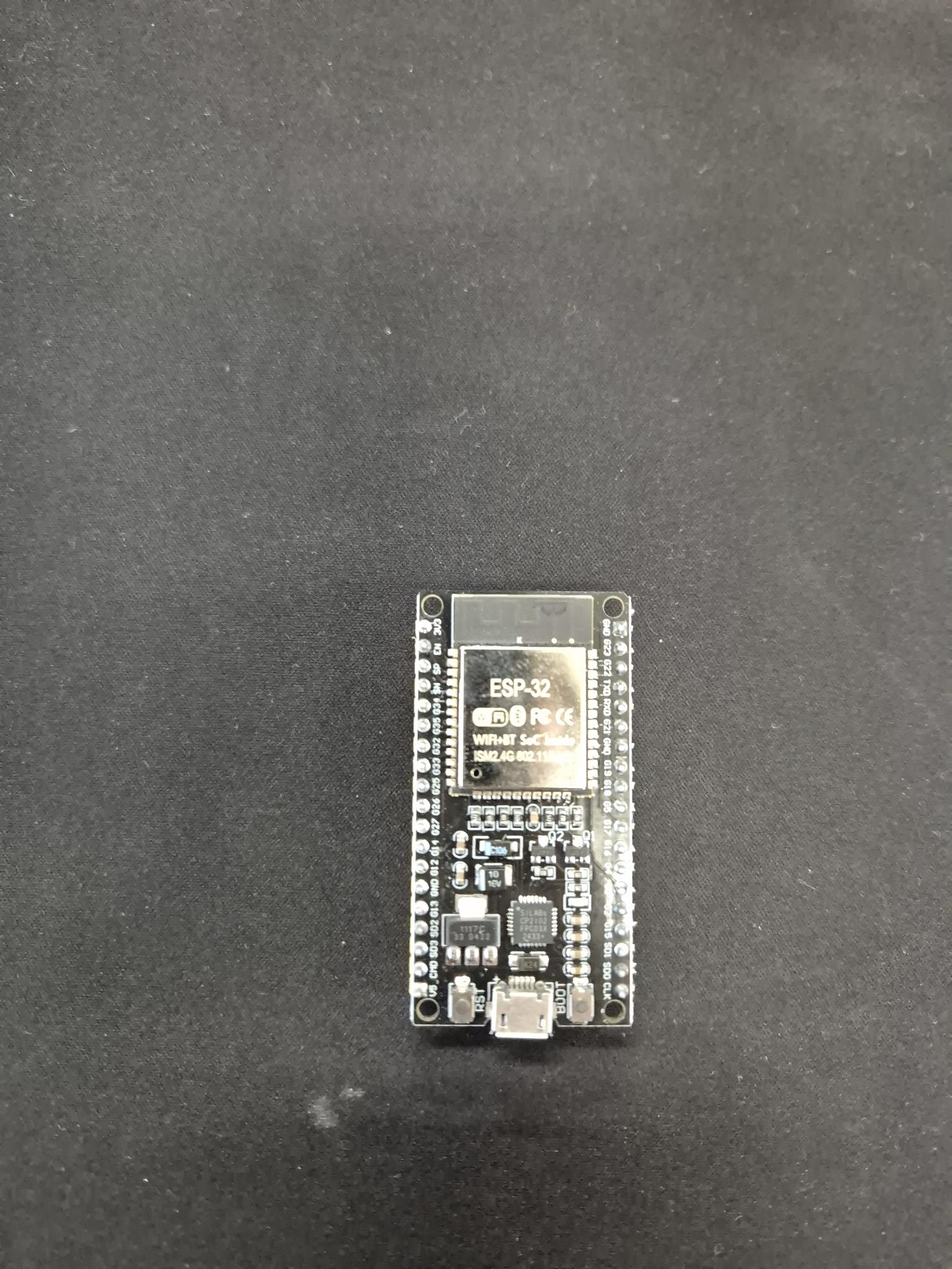esp32-dev: (411, 593, 633, 1033)
